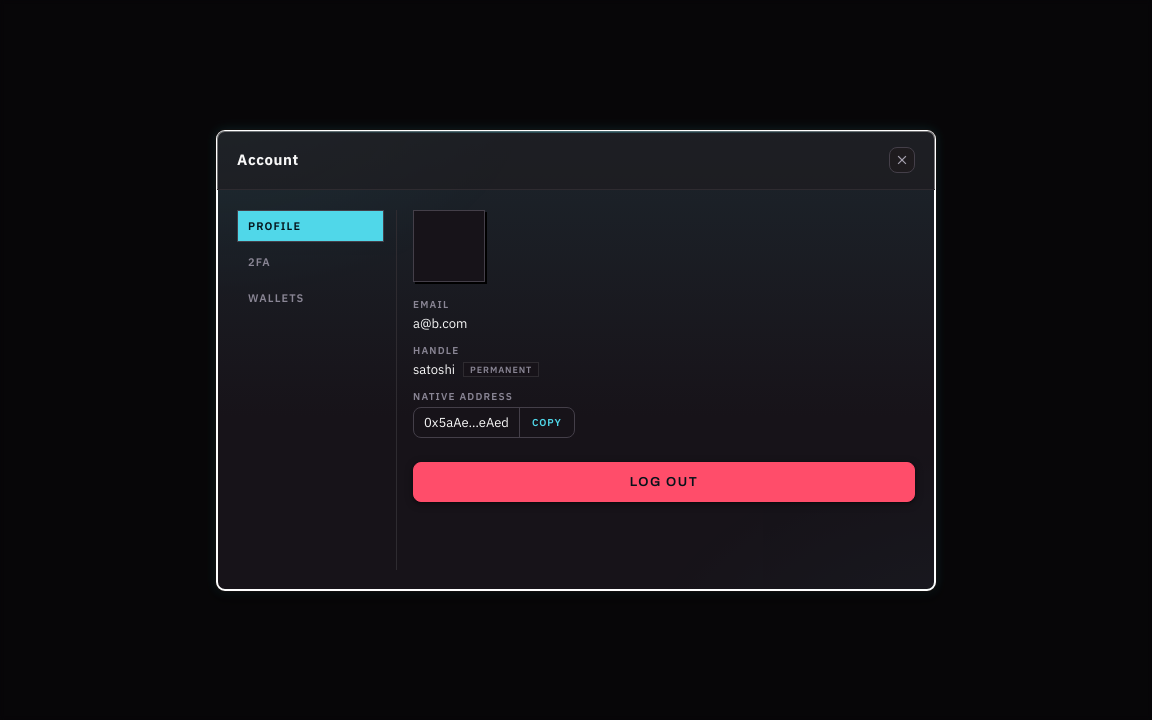
Test: <AccountModal /> — shell › navigates to the 2FA section when its nav item is clicked
The width and height of the screenshot is (1152, 720).
Click the button with test id "account-nav-mfa".
click(310, 262)  # box 237,246 -> 384,278
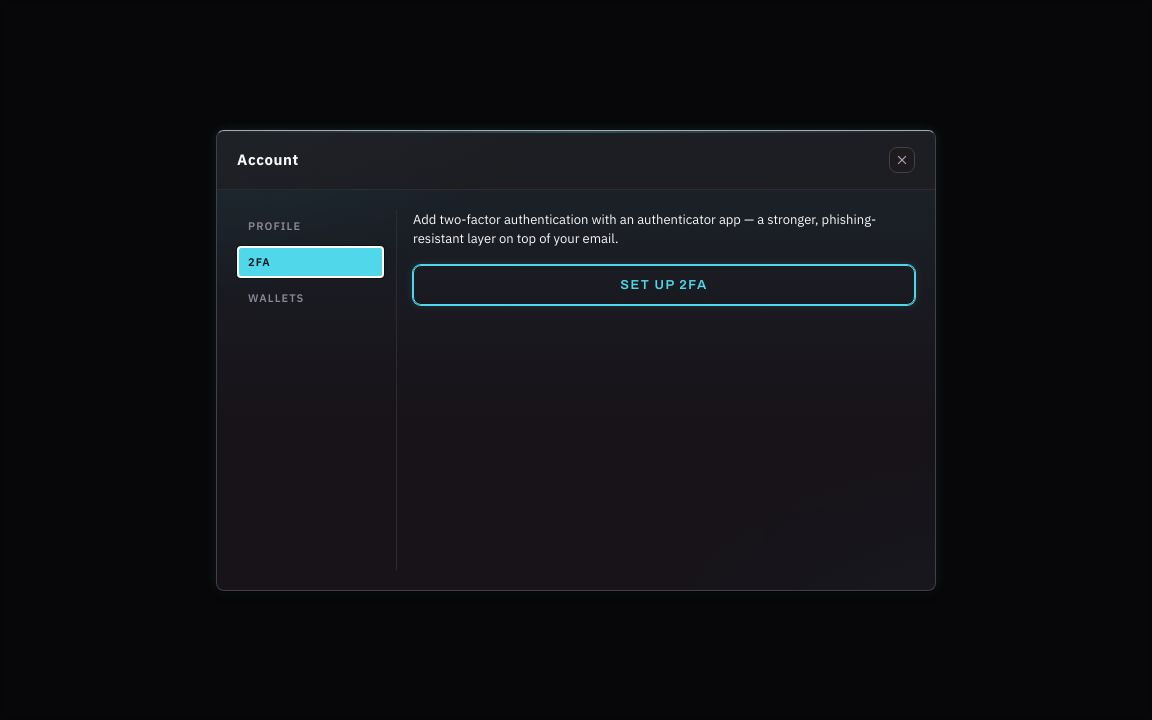
Expected: the element with test id "account-section-mfa" is shown, 413,210 -> 915,304
Expected: the element with test id "account-section-profile" is gone
